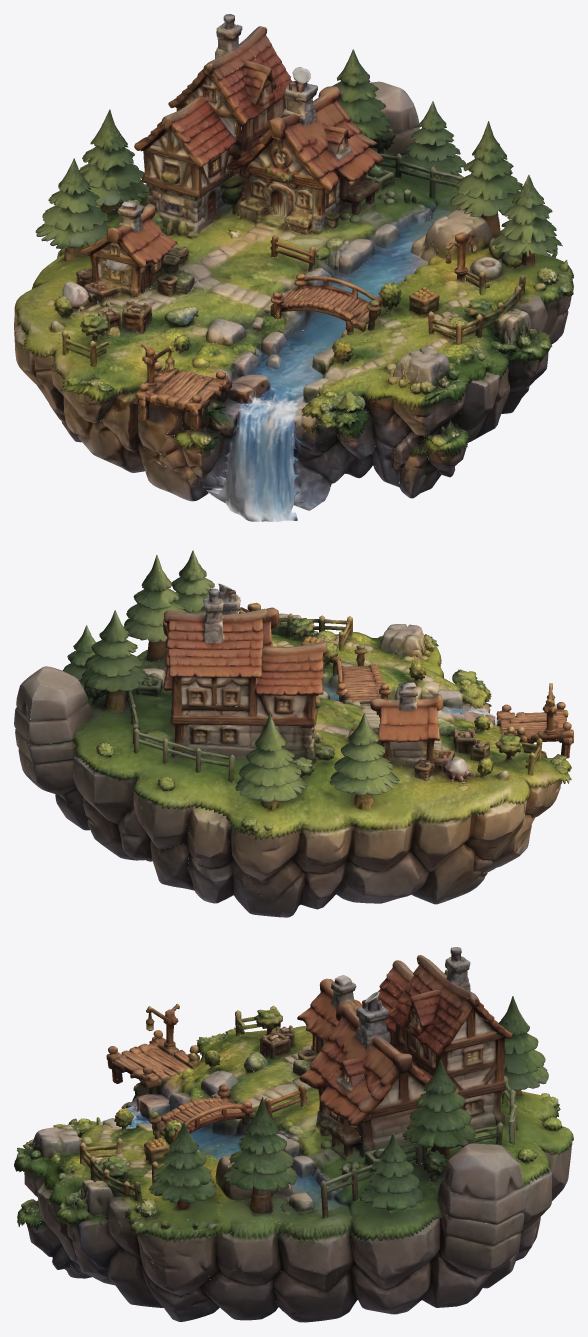
The model's file is fantasy-island.glb.
3 views of the same model, one above another, from view 1: azimuth 30°, elevation 25°; view 2: azimuth 150°, elevation 25°; view 3: azimuth 270°, elevation 25° (orthographic). The views are drawn at different scales.
Visible parts, largest first — view 1: tripo_node_66c112cc-d515-4765-9d64-2437e2dc25b6; view 2: tripo_node_66c112cc-d515-4765-9d64-2437e2dc25b6; view 3: tripo_node_66c112cc-d515-4765-9d64-2437e2dc25b6.
Part boxes in pixels (x1,y1,x2,y2): tripo_node_66c112cc-d515-4765-9d64-2437e2dc25b6: [14, 14, 573, 521]; tripo_node_66c112cc-d515-4765-9d64-2437e2dc25b6: [14, 550, 573, 917]; tripo_node_66c112cc-d515-4765-9d64-2437e2dc25b6: [14, 947, 573, 1322].
Bounding box in the file's own units: 0.9654 × 0.6343 × 0.9792.
Materials: 1 (1 with a texture image).
